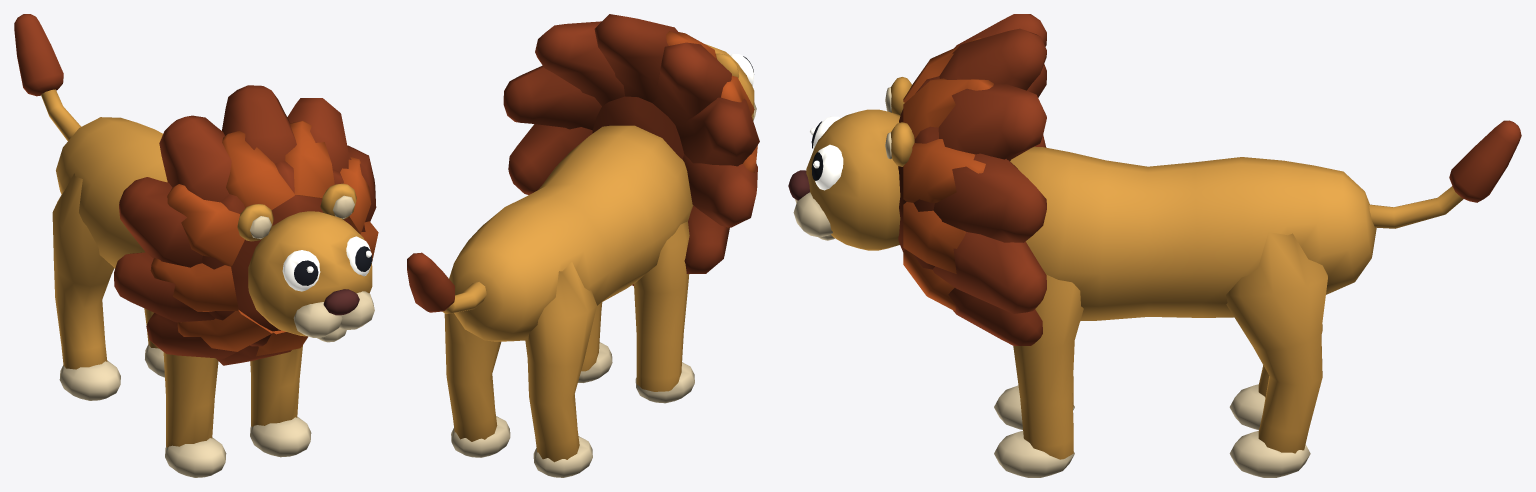
File: lion.glb
3 views of the same model, side by side, from view 1: azimuth 30°, elevation 25°; view 2: azimuth 150°, elevation 25°; view 3: azimuth 270°, elevation 25° (orthographic). The views are drawn at different scales.
Parts seen in each view (by area): view 1: Lion body mane dark, Lion body gold, Lion body mane, Lion leg 2 gold, Lion leg 0 gold, Lion leg 1 gold, Lion body cream, Lion leg 2 cream, Lion leg 1 cream, Lion leg 0 cream, Lion body eye white, Lion body pupil (+2 smaller); view 2: Lion body mane dark, Lion body gold, Lion leg 2 gold, Lion leg 0 gold, Lion leg 3 gold, Lion leg 2 cream, Lion leg 3 cream, Lion body mane, Lion leg 0 cream, Lion leg 1 gold, Lion leg 1 cream; view 3: Lion body gold, Lion body mane dark, Lion leg 3 gold, Lion body mane, Lion leg 1 gold, Lion leg 3 cream, Lion leg 1 cream, Lion body cream, Lion body eye white, Lion leg 2 cream, Lion leg 0 cream.
Boxes of the visible parts, x1,y1,x2,y2 form: Lion body mane dark: [14, 14, 376, 365]; Lion body gold: [41, 89, 372, 336]; Lion body mane: [150, 120, 378, 356]; Lion leg 2 gold: [52, 173, 114, 369]; Lion leg 0 gold: [163, 352, 218, 447]; Lion leg 1 gold: [250, 345, 302, 426]; Lion body cream: [250, 195, 374, 342]; Lion leg 2 cream: [59, 360, 120, 400]; Lion leg 1 cream: [250, 417, 311, 457]; Lion leg 0 cream: [165, 437, 226, 477]; Lion body eye white: [282, 236, 372, 291]; Lion body pupil: [294, 246, 372, 285]; Lion body mane dark: [407, 14, 759, 312]; Lion body gold: [443, 44, 754, 341]; Lion leg 2 gold: [525, 262, 596, 462]; Lion leg 0 gold: [634, 221, 689, 391]; Lion leg 3 gold: [444, 313, 501, 441]; Lion leg 2 cream: [533, 436, 592, 477]; Lion leg 3 cream: [451, 416, 510, 457]; Lion body mane: [666, 31, 757, 228]; Lion leg 0 cream: [635, 362, 694, 403]; Lion leg 1 gold: [581, 302, 602, 371]; Lion leg 1 cream: [578, 342, 612, 382]; Lion body gold: [806, 77, 1463, 321]; Lion body mane dark: [898, 14, 1521, 345]; Lion leg 3 gold: [1226, 232, 1327, 453]; Lion body mane: [903, 38, 993, 311]; Lion leg 1 gold: [1013, 274, 1083, 459]; Lion leg 3 cream: [1229, 430, 1310, 477]; Lion leg 1 cream: [994, 431, 1074, 477]; Lion body cream: [793, 87, 891, 240]; Lion body eye white: [809, 116, 843, 190]; Lion leg 2 cream: [1229, 384, 1265, 429]; Lion leg 0 cream: [994, 385, 1074, 429].
Bounding box in the file's own units: 1.26 × 1.78 × 2.8.
